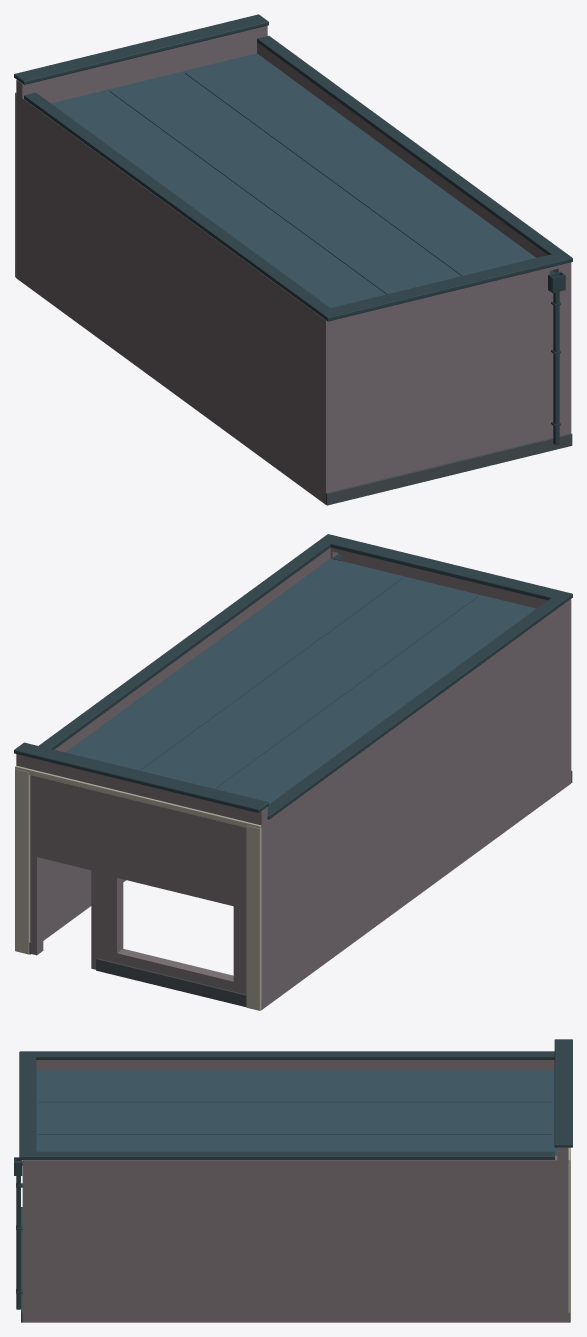
The model's file is reexport.glb.
The picture shows the model from 3 angles, top to bottom: view 1: azimuth 30°, elevation 25°; view 2: azimuth 150°, elevation 25°; view 3: azimuth 270°, elevation 25°; orthographic projection. The views are drawn at different scales.
Visible parts, largest first — view 1: party_wall_left, flat_roof_deck, rear_structural_wall, front_structural_wall_with_two_openings, party_wall_right, party_coping_left, party_coping_right, front_parapet_coping, rear_coping, rear_plinth, rear_parapet_left, rear_downpipe (+2 smaller); view 2: party_wall_left, flat_roof_deck, front_structural_wall_with_two_openings, party_wall_right, party_coping_left, party_coping_right, front_parapet_coping, rear_coping, front_corner_pier_left, front_corner_pier_right, rear_parapet_left, front_plinth_left (+3 smaller); view 3: party_wall_right, flat_roof_deck, party_wall_left, party_coping_right, party_coping_left, front_structural_wall_with_two_openings, front_parapet_coping, rear_coping, roof_seam_left, roof_seam_right, rear_downpipe, front_corner_pier_right.
Boxes of the visible parts, left/top/right/bottom form: party_wall_left: left=22, top=98, right=336, bottom=504; flat_roof_deck: left=51, top=53, right=552, bottom=307; rear_structural_wall: left=337, top=278, right=560, bottom=490; front_structural_wall_with_two_openings: left=16, top=25, right=267, bottom=282; party_wall_right: left=257, top=42, right=571, bottom=435; party_coping_left: left=24, top=92, right=336, bottom=319; party_coping_right: left=257, top=35, right=570, bottom=258; front_parapet_coping: left=14, top=14, right=268, bottom=84; rear_coping: left=318, top=253, right=572, bottom=321; rear_plinth: left=326, top=433, right=572, bottom=505; rear_parapet_left: left=337, top=267, right=549, bottom=329; rear_downpipe: left=553, top=291, right=559, bottom=444; party_wall_left: left=267, top=599, right=571, bottom=1005; flat_roof_deck: left=66, top=558, right=535, bottom=804; front_structural_wall_with_two_openings: left=16, top=754, right=267, bottom=1009; party_wall_right: left=43, top=547, right=330, bottom=940; party_coping_left: left=267, top=592, right=571, bottom=819; party_coping_right: left=39, top=535, right=336, bottom=749; front_parapet_coping: left=14, top=742, right=268, bottom=812; rear_coping: left=320, top=534, right=572, bottom=600; front_corner_pier_left: left=246, top=825, right=261, bottom=1010; front_corner_pier_right: left=15, top=769, right=30, bottom=954; rear_parapet_left: left=341, top=550, right=547, bottom=608; front_plinth_left: left=96, top=958, right=261, bottom=1009; party_wall_right: left=22, top=1155, right=557, bottom=1322; flat_roof_deck: left=36, top=1070, right=557, bottom=1155; party_wall_left: left=36, top=1060, right=554, bottom=1070; party_coping_right: left=23, top=1151, right=554, bottom=1159; party_coping_left: left=23, top=1051, right=554, bottom=1059; front_structural_wall_with_two_openings: left=557, top=1147, right=568, bottom=1322; front_parapet_coping: left=554, top=1039, right=572, bottom=1147; rear_coping: left=19, top=1051, right=36, bottom=1159; roof_seam_left: left=38, top=1101, right=552, bottom=1102; roof_seam_right: left=38, top=1133, right=552, bottom=1134; rear_downpipe: left=16, top=1176, right=20, bottom=1309; front_corner_pier_right: left=568, top=1157, right=570, bottom=1322.
Bounding box in the file's own units: 6.4 × 5.05 × 14.34.
